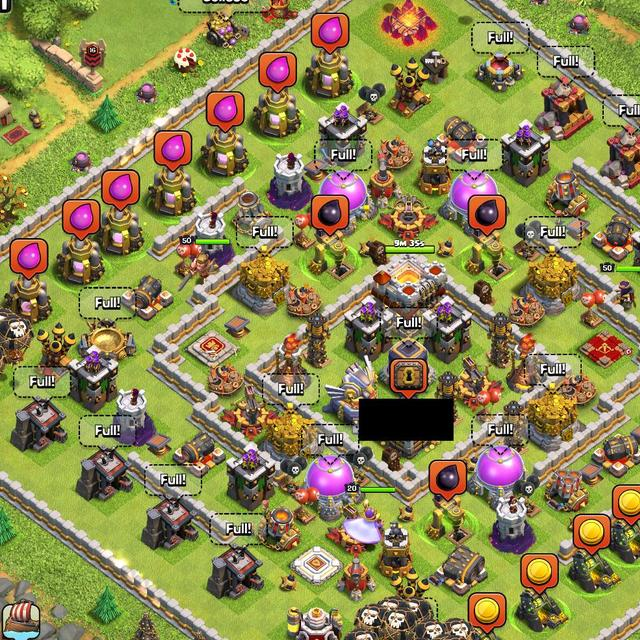FullCoin: (520, 552, 559, 589), (468, 594, 507, 630), (574, 514, 611, 550), (611, 484, 640, 522)
FullElixir: (61, 198, 102, 238), (257, 52, 298, 90), (8, 238, 50, 275), (205, 91, 247, 127), (101, 170, 141, 207), (310, 13, 351, 49), (153, 130, 193, 166)
FullElixirNegro: (467, 194, 507, 233), (312, 194, 350, 233), (429, 460, 467, 497)
